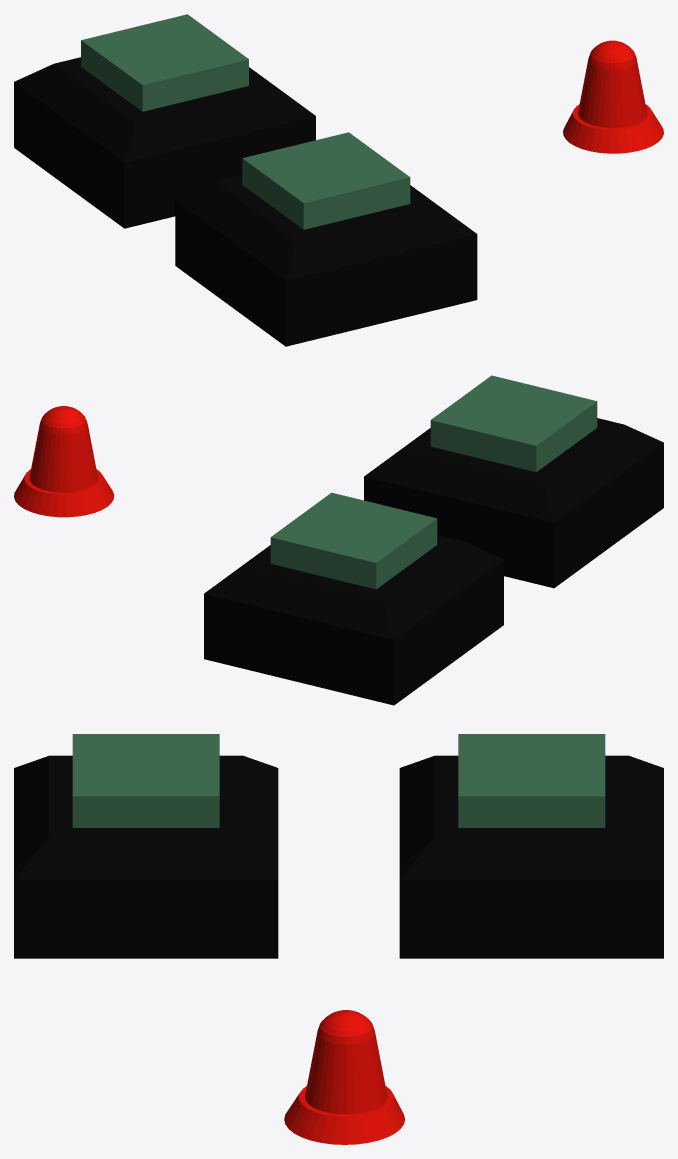
Rendered from portaAnd.gltf.
3 views of the same model, one above another, from view 1: azimuth 30°, elevation 25°; view 2: azimuth 150°, elevation 25°; view 3: azimuth 270°, elevation 25° (orthographic). The views are drawn at different scales.
Visible parts, largest first — view 1: btn1, btn2, clickBtn1, clickBtn2, led; view 2: btn2, btn1, clickBtn2, clickBtn1, led; view 3: btn1, btn2, clickBtn1, clickBtn2, led.
Boxes of the visible parts, x1,y1,x2,y2 form: btn1: [175, 175, 477, 346]; btn2: [14, 57, 315, 228]; clickBtn1: [242, 132, 410, 229]; clickBtn2: [81, 14, 248, 111]; led: [563, 40, 663, 153]; btn2: [204, 535, 503, 705]; btn1: [364, 418, 663, 588]; clickBtn2: [270, 492, 437, 589]; clickBtn1: [430, 375, 597, 472]; led: [14, 406, 114, 517]; btn1: [14, 755, 278, 958]; btn2: [399, 755, 663, 958]; clickBtn1: [72, 734, 219, 827]; clickBtn2: [458, 734, 605, 827]; led: [284, 1010, 404, 1144].
Bounding box in the file's own units: 5.32 × 1.15 × 4.92.
